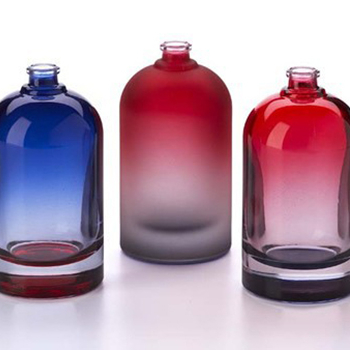glass_bottle: (117, 37, 237, 268), (240, 62, 350, 304), (1, 57, 109, 302)
